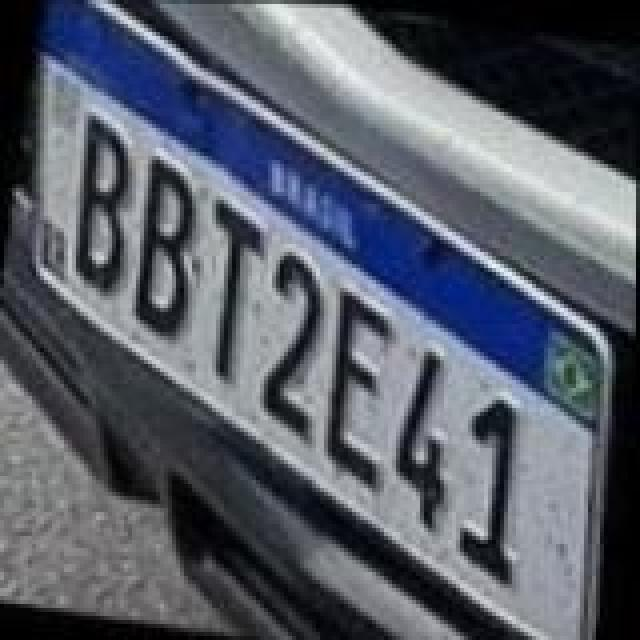1: (440, 382, 544, 586)
2: (244, 242, 340, 442)
4: (376, 340, 468, 536)
B: (54, 104, 150, 296), (120, 146, 216, 338)
E: (306, 284, 410, 492)
T: (182, 186, 278, 386)
